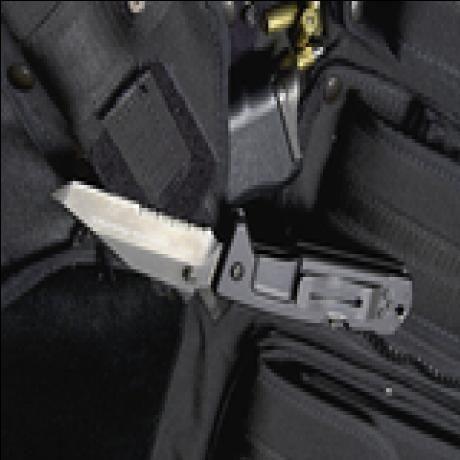weapon: (43, 182, 413, 347)
